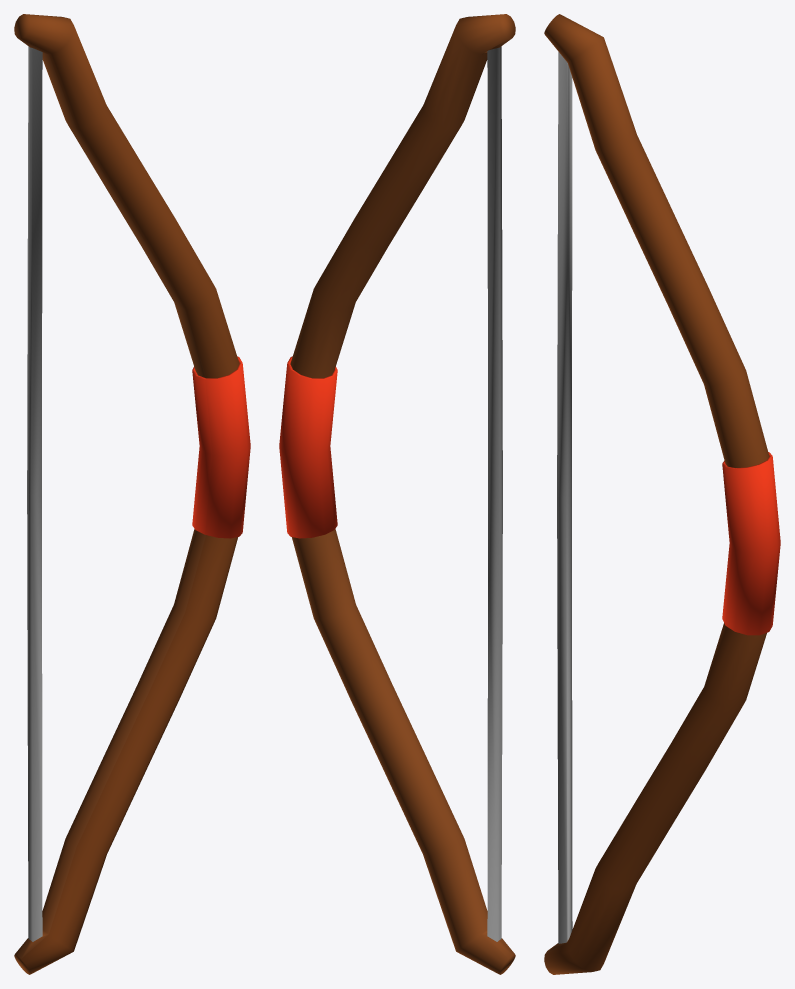
File: trap_arch.glb
3 views of the same model, side by side, from view 1: azimuth 30°, elevation 25°; view 2: azimuth 150°, elevation 25°; view 3: azimuth 330°, elevation 25° (orthographic).
Parts seen in each view (by area): view 1: Circle.001_visual; view 2: Circle.001_visual; view 3: Circle.001_visual.
Part boxes in pixels (left/top/right/bottom): Circle.001_visual: left=14, top=14, right=250, bottom=974; Circle.001_visual: left=279, top=14, right=515, bottom=974; Circle.001_visual: left=544, top=14, right=780, bottom=974.
Size of what is drawn, in the model's own units: 0.5118 by 2.04 by 0.0986.
Materials: 1 (1 with a texture image).
